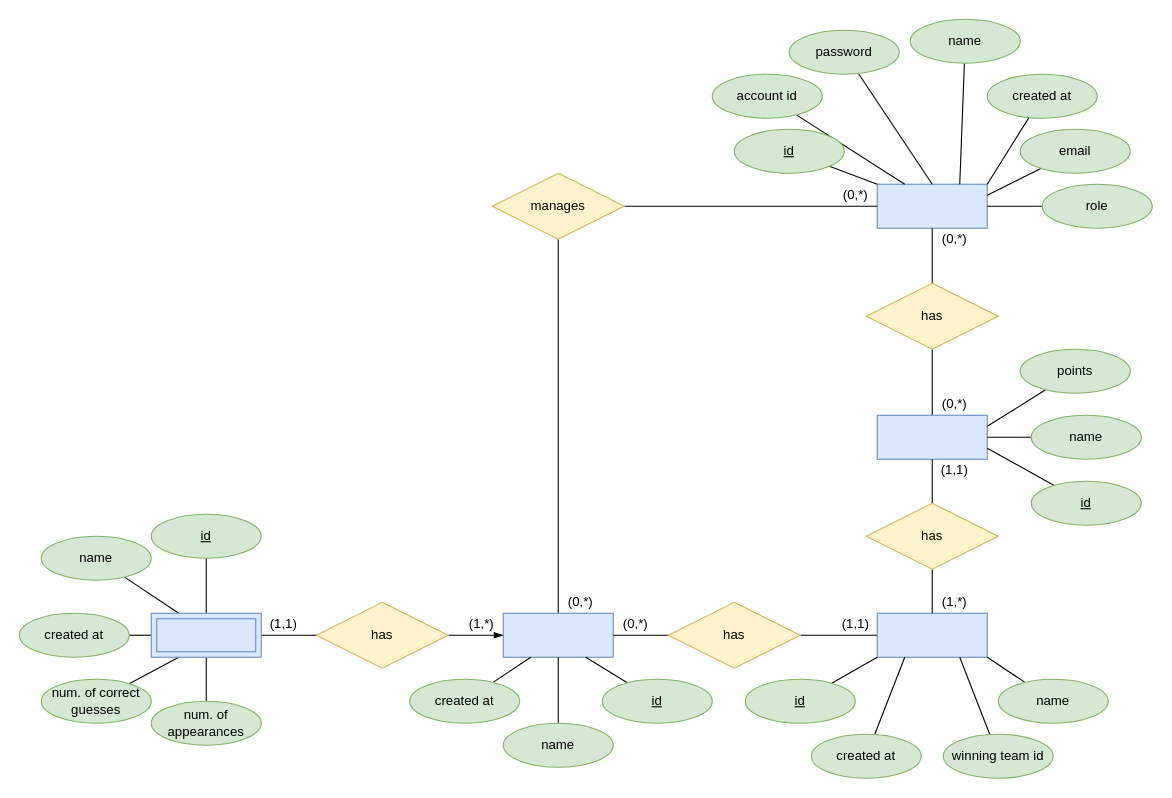
The diagram is 1172 pixels wide and 798 high, and some of its shapes have lost their labels. Each missing label, with the box of its shape:
Game: (876, 612, 987, 657)
Team: (876, 414, 987, 459)
Term: (150, 612, 261, 657)
Topic: (502, 612, 613, 657)
User: (876, 183, 987, 228)
